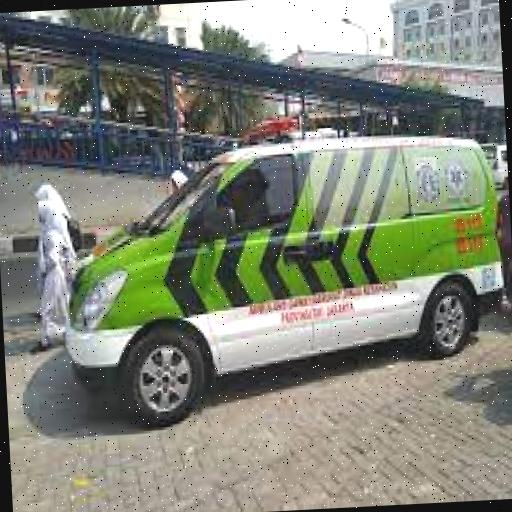Police car: (54, 100, 508, 411)
